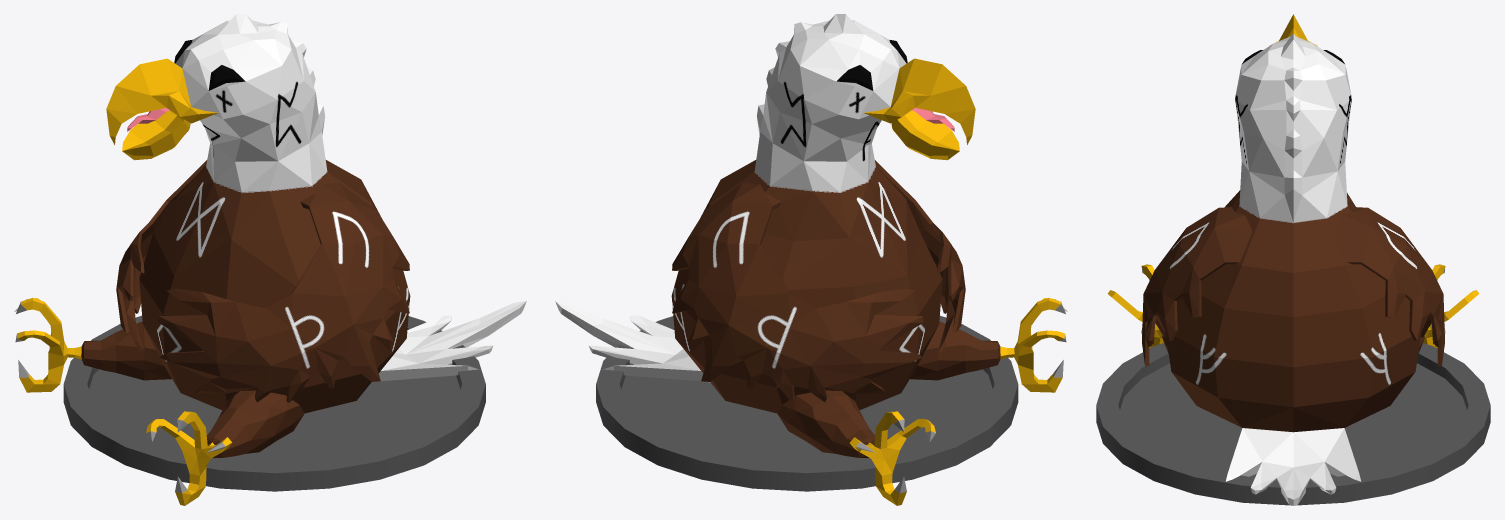
The model's file is 3D_boss_gammur.fbx.
3 views of the same model, side by side, from view 1: azimuth 30°, elevation 25°; view 2: azimuth 150°, elevation 25°; view 3: azimuth 270°, elevation 25° (orthographic). The views are drawn at different scales.
Parts seen in each view (by area): view 1: SM_gammur, SM_gammur_01; view 2: SM_gammur, SM_gammur_01; view 3: SM_gammur, SM_gammur_01.
Part boxes in pixels (box(x1,y1,x2,y2)): SM_gammur: box(14, 14, 526, 505); SM_gammur_01: box(63, 315, 485, 491); SM_gammur: box(555, 14, 1067, 505); SM_gammur_01: box(596, 315, 1018, 491); SM_gammur: box(1107, 14, 1479, 505); SM_gammur_01: box(1096, 343, 1490, 505).
Size of the model in its own units: 330 by 285 by 271.
Materials: 2 (1 with a texture image).
